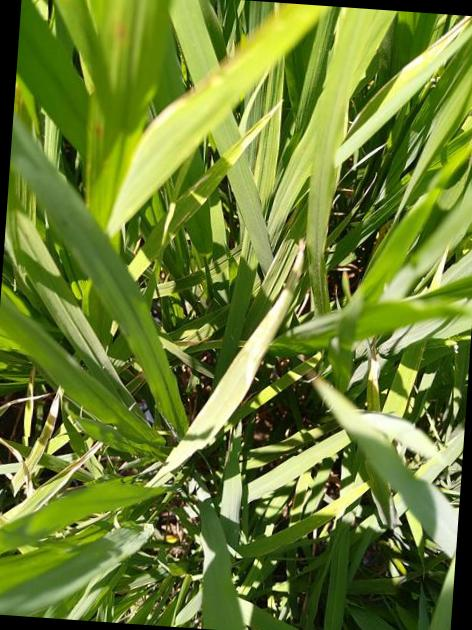Leaf Blight: (0, 444, 103, 524)
Leaf Streak: (156, 243, 306, 476), (25, 390, 59, 474)
